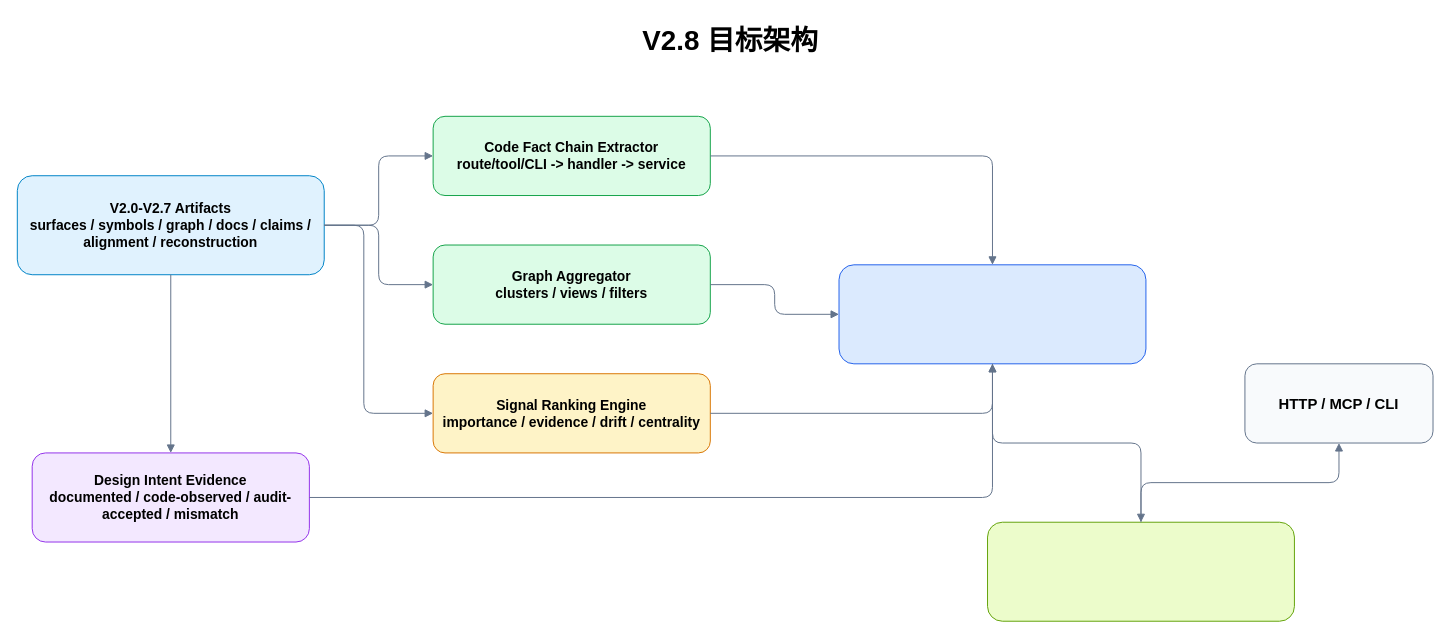
Image size: 1450x639. Some labels were removed from this diagram. Here are the shapes that lost their labels. From the top down, the centre of each, then its label:
At point 992,314: "Architecture Reading Dashboard HTML + SVG + Mermaid + charts".
At point 1140,571: "Architecture Context Pack v2 project brief / task context / evidence".
